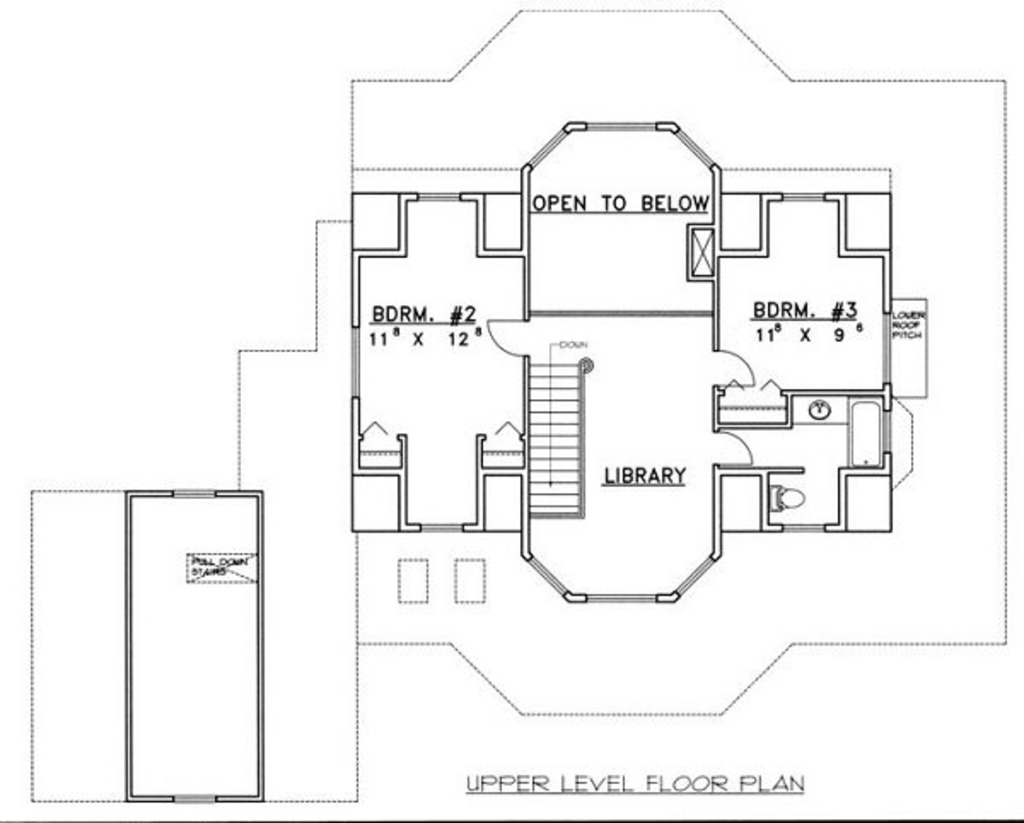door: (714, 345, 764, 388), (486, 314, 531, 356), (711, 428, 754, 468)
large_sink: (769, 469, 814, 522)
small_sink: (789, 391, 843, 428)
stairs: (527, 357, 600, 528)
tub: (847, 385, 883, 468)
window: (519, 545, 721, 603), (346, 324, 376, 396), (164, 779, 221, 807), (414, 519, 466, 540), (164, 487, 230, 503), (410, 190, 473, 206), (777, 188, 829, 203)
